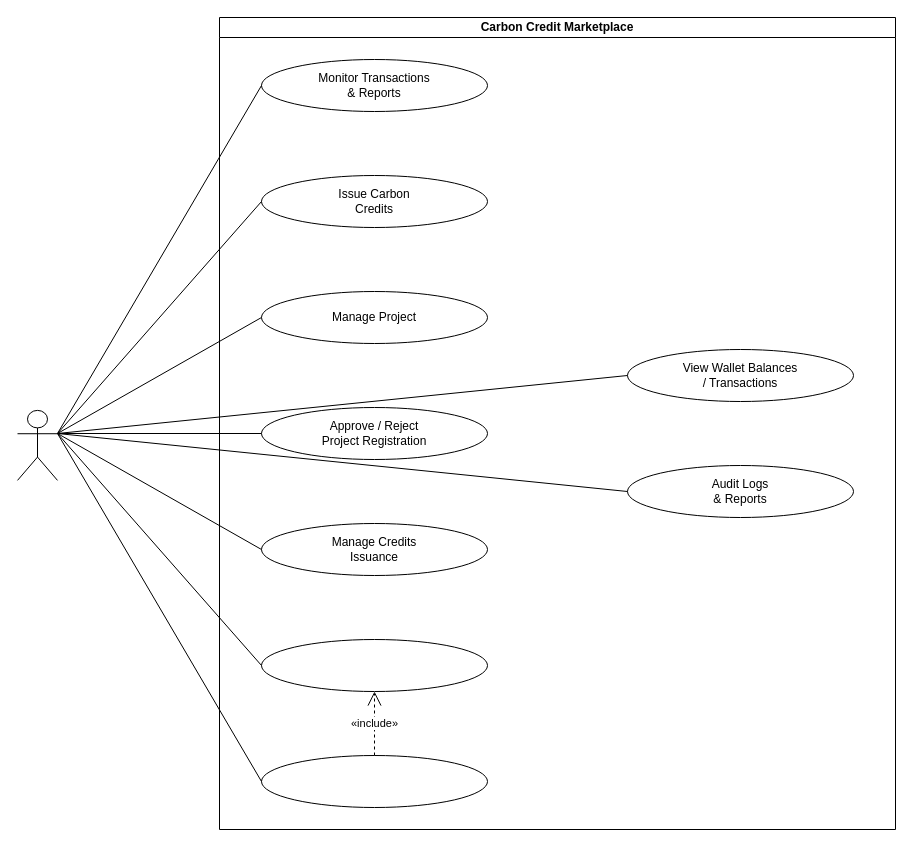
Image size: 913x847. Some labels were removed from this diagram. The centre of each missing label's shape, as x and y in pixels:
Admin: (37,444)
Approve / Reject Validation Report: (374,781)
View Validation Reports: (374,665)
